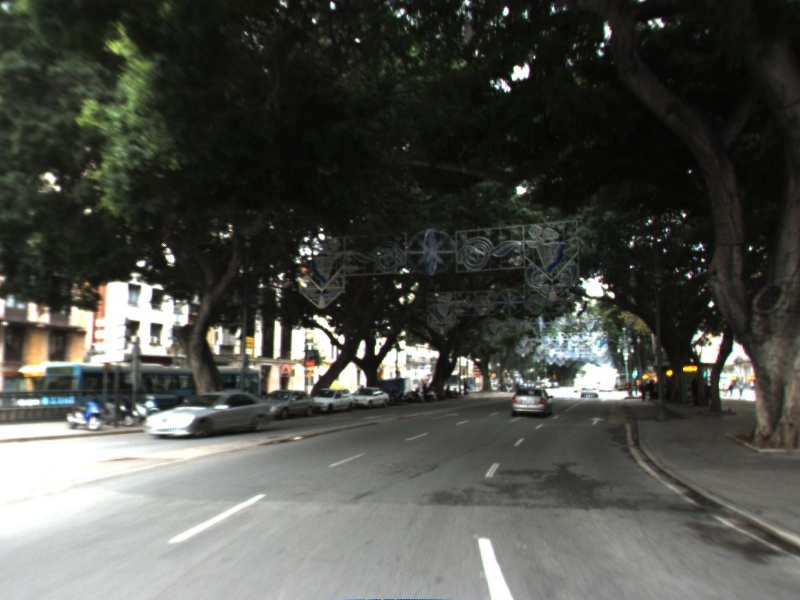STRAIGHT: (587, 415, 607, 427)
